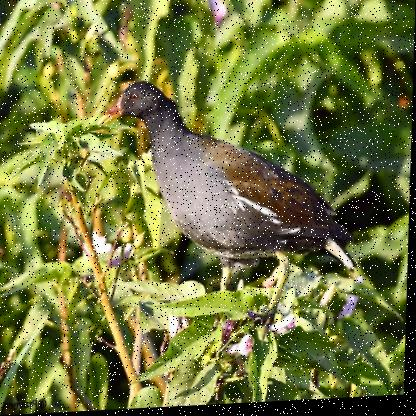Burung: (94, 72, 366, 299)
